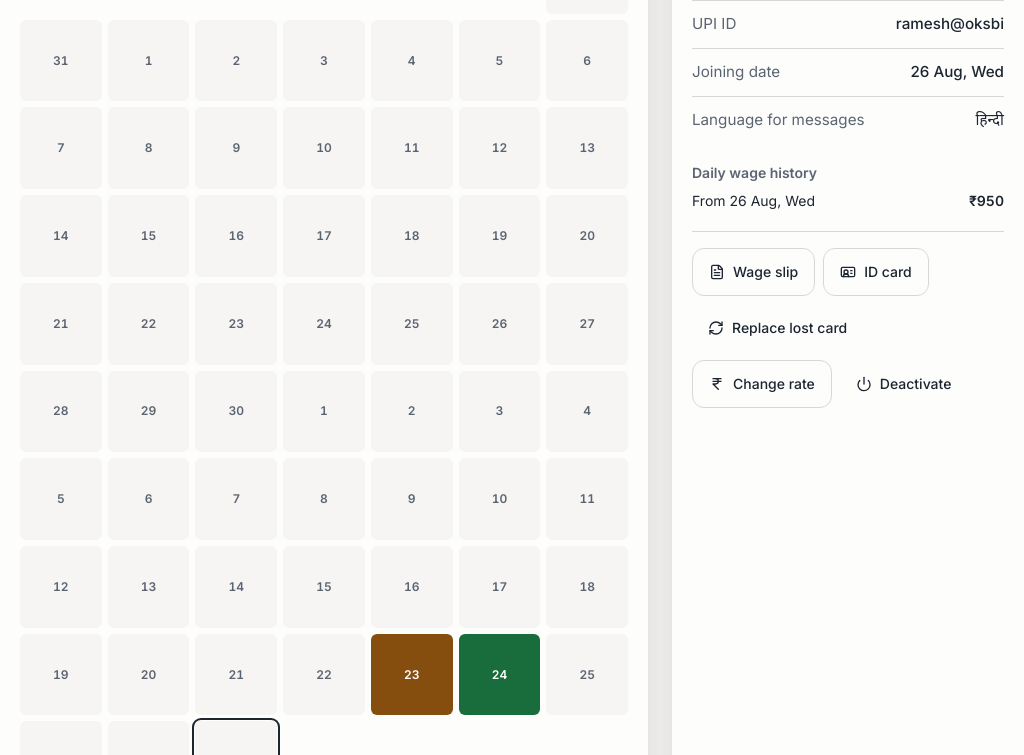
Test case: WorkerProfilePage › changes the rate and reports recalculated days
(page scrolled)
Click the button "Change rate" at x=762, y=384, box [692,360,832,408]
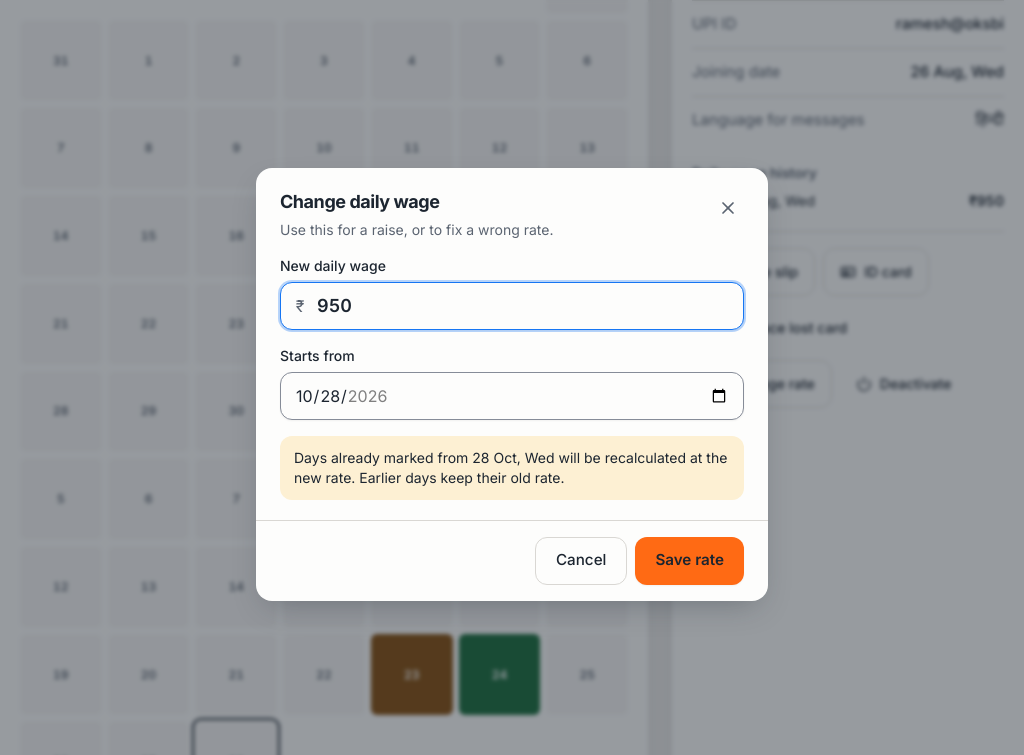
Replace the text in the field labelled "New daily wage" with "1000" at x=512, y=306, box [280,282,744,330]
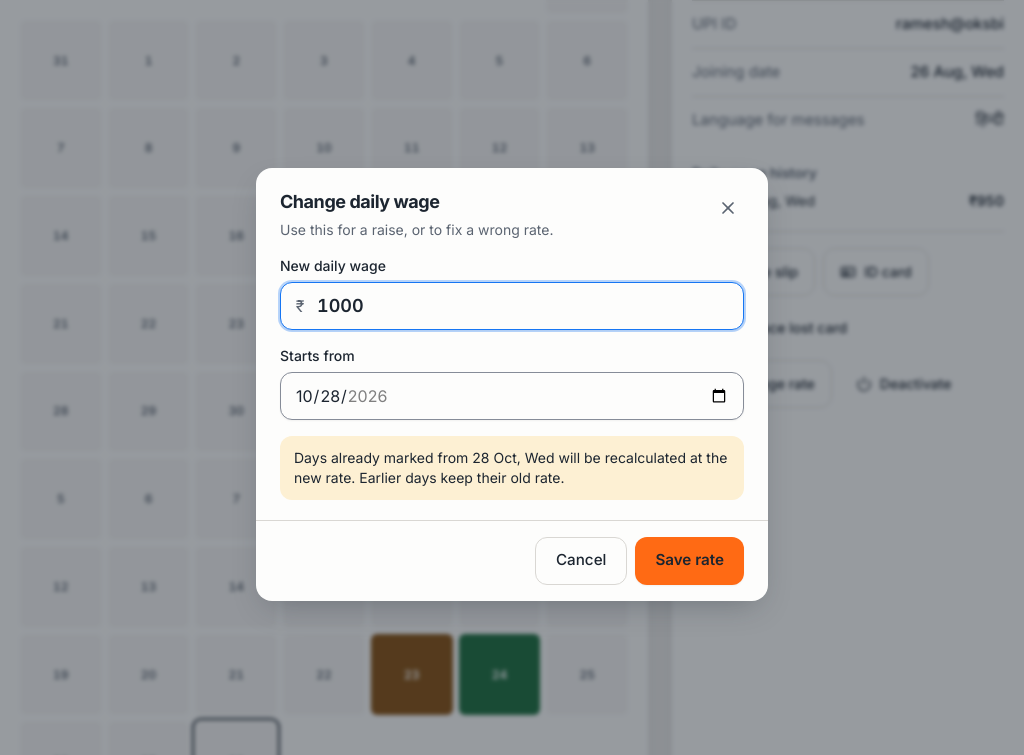
Click the button "Save rate" at x=690, y=560, box [635,536,744,584]
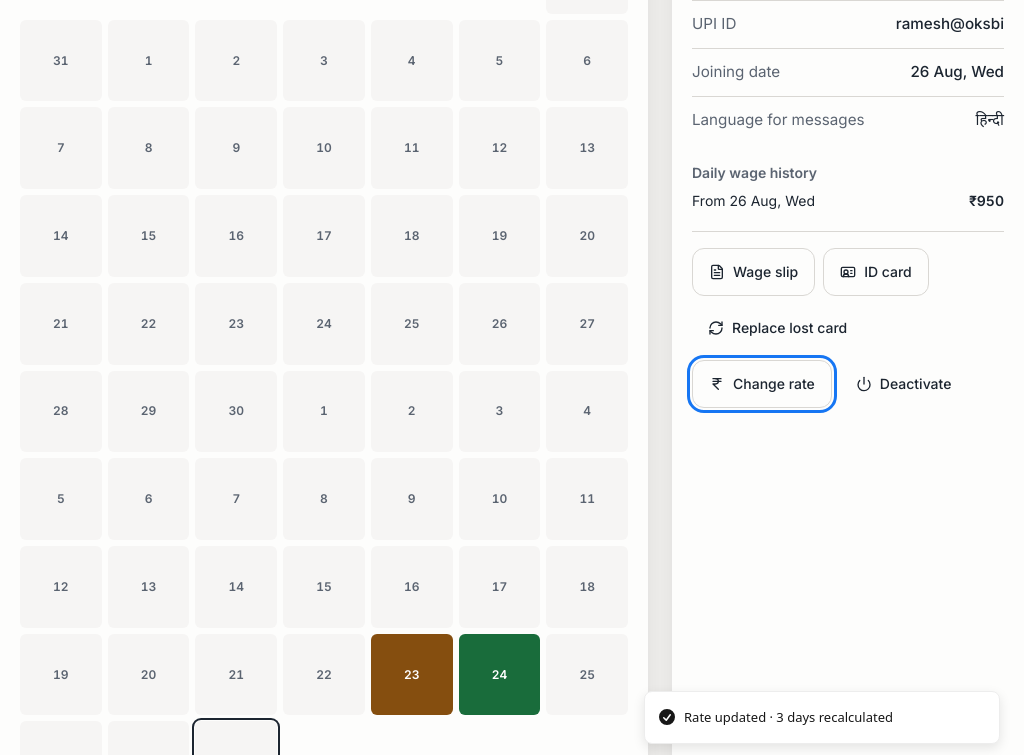
Result: the text "Rate updated · 3 days recalculated" is shown at [684,708,893,727]
